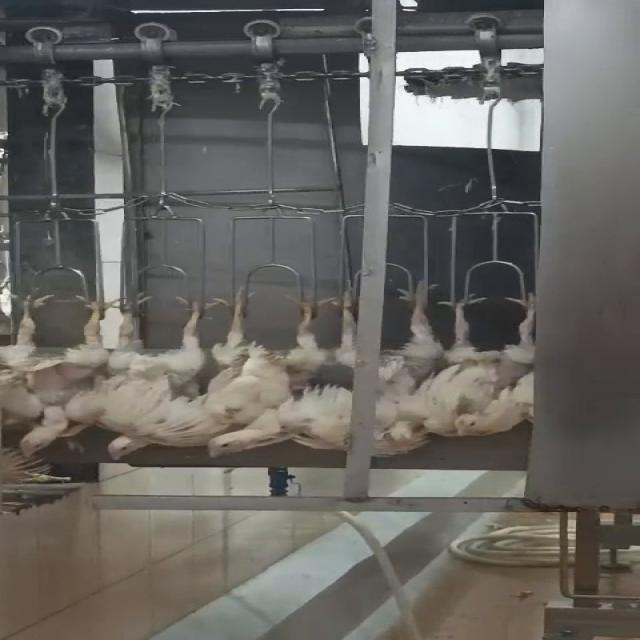chicken: (213, 288, 338, 458), (100, 292, 210, 463), (428, 280, 538, 441), (7, 291, 107, 459), (372, 284, 426, 462)
